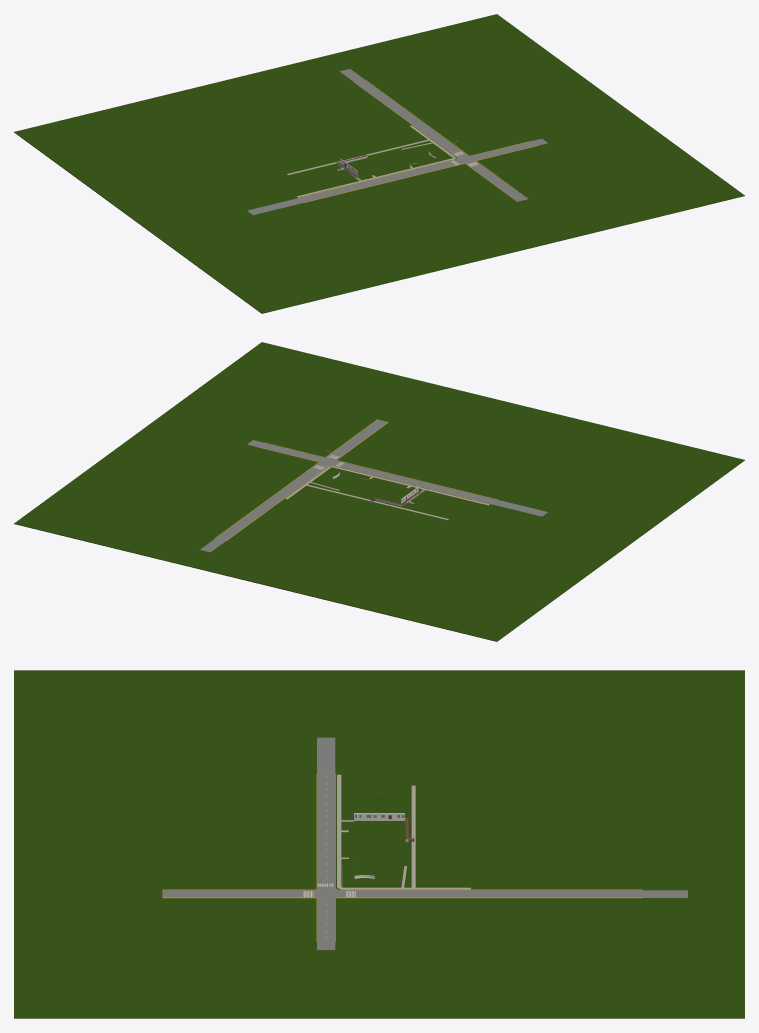
Rendered from sitio.glb.
The picture shows the model from 3 angles, top to bottom: view 1: azimuth 30°, elevation 25°; view 2: azimuth 150°, elevation 25°; view 3: azimuth 270°, elevation 25°; orthographic projection. The views are drawn at different scales.
Parts seen in each view (by area): view 1: Leafy grass — photographic 2m, Weathered asphalt 02 — photographic 3m, Concrete paving — Poly Haven CC0, Worn yellow kerb; view 2: Leafy grass — photographic 2m, Weathered asphalt 02 — photographic 3m, Concrete paving — Poly Haven CC0, Worn yellow kerb; view 3: Leafy grass — photographic 2m, Weathered asphalt 02 — photographic 3m, Worn yellow kerb, Concrete paving — Poly Haven CC0.
Part boxes in pixels (left/top/right/bottom): Leafy grass — photographic 2m: left=14, top=14, right=744, bottom=313; Weathered asphalt 02 — photographic 3m: left=247, top=69, right=547, bottom=215; Concrete paving — Poly Haven CC0: left=287, top=125, right=455, bottom=197; Worn yellow kerb: left=297, top=80, right=537, bottom=202; Leafy grass — photographic 2m: left=14, top=342, right=744, bottom=641; Weathered asphalt 02 — photographic 3m: left=200, top=419, right=547, bottom=552; Concrete paving — Poly Haven CC0: left=285, top=466, right=489, bottom=520; Worn yellow kerb: left=215, top=419, right=497, bottom=541; Leafy grass — photographic 2m: left=14, top=670, right=744, bottom=1018; Weathered asphalt 02 — photographic 3m: left=162, top=737, right=687, bottom=950; Worn yellow kerb: left=162, top=774, right=642, bottom=942; Concrete paving — Poly Haven CC0: left=337, top=774, right=470, bottom=889.
Size of the model in its own units: 360 by 15.95 by 320.
